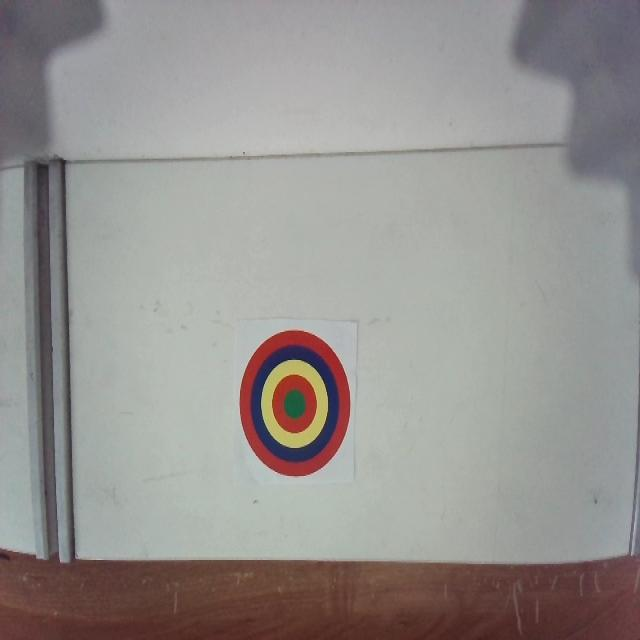cogn: (240, 329, 351, 478)
